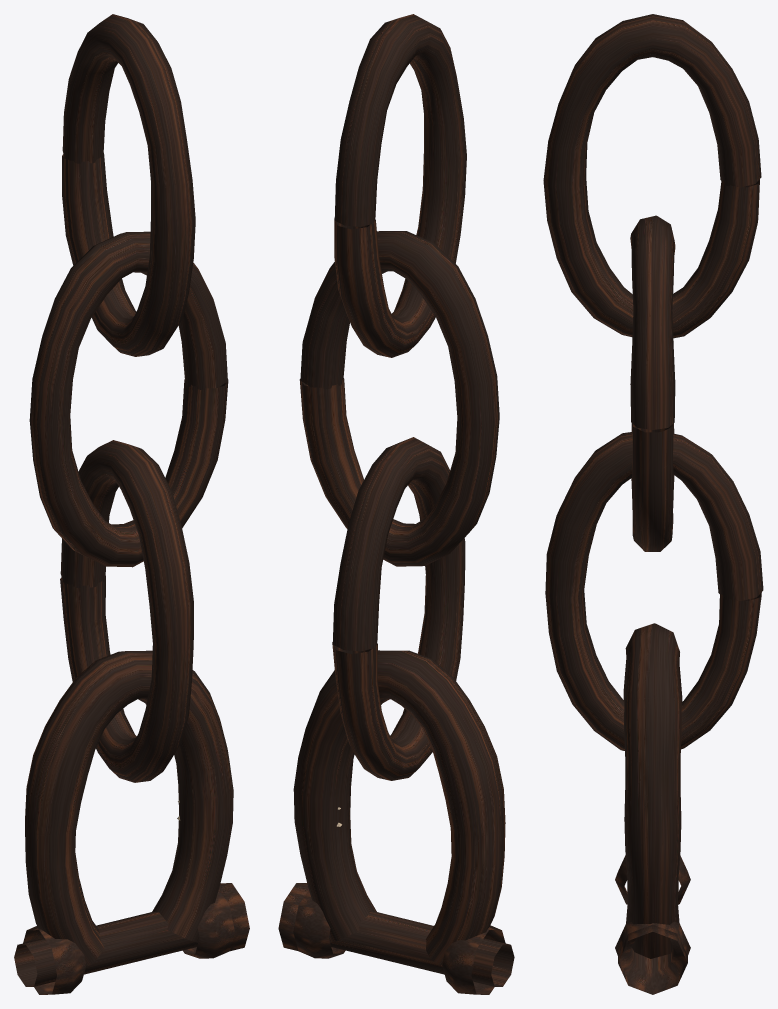
File: shackle-chain.glb
3 views of the same model, side by side, from view 1: azimuth 30°, elevation 25°; view 2: azimuth 150°, elevation 25°; view 3: azimuth 270°, elevation 25° (orthographic). The views are drawn at different scales.
Parts seen in each view (by area): view 1: LOD0; view 2: LOD0; view 3: LOD0.
Boxes of the visible parts, bbox=[...] form: LOD0: bbox=[14, 14, 249, 994]; LOD0: bbox=[278, 14, 514, 994]; LOD0: bbox=[543, 14, 763, 994].
Size of what is drawn, in the model's own units: 0.153 by 0.6776 by 0.1449.
Materials: 1 (1 with a texture image).
